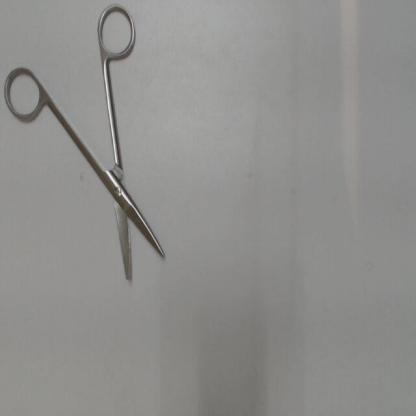Curved Mayo Scissors: (1, 1, 172, 290)
